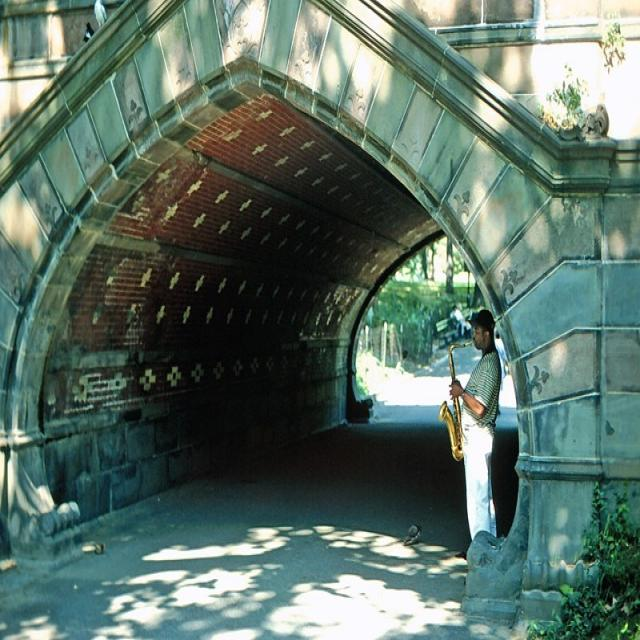saxophone: (437, 341, 474, 464)
